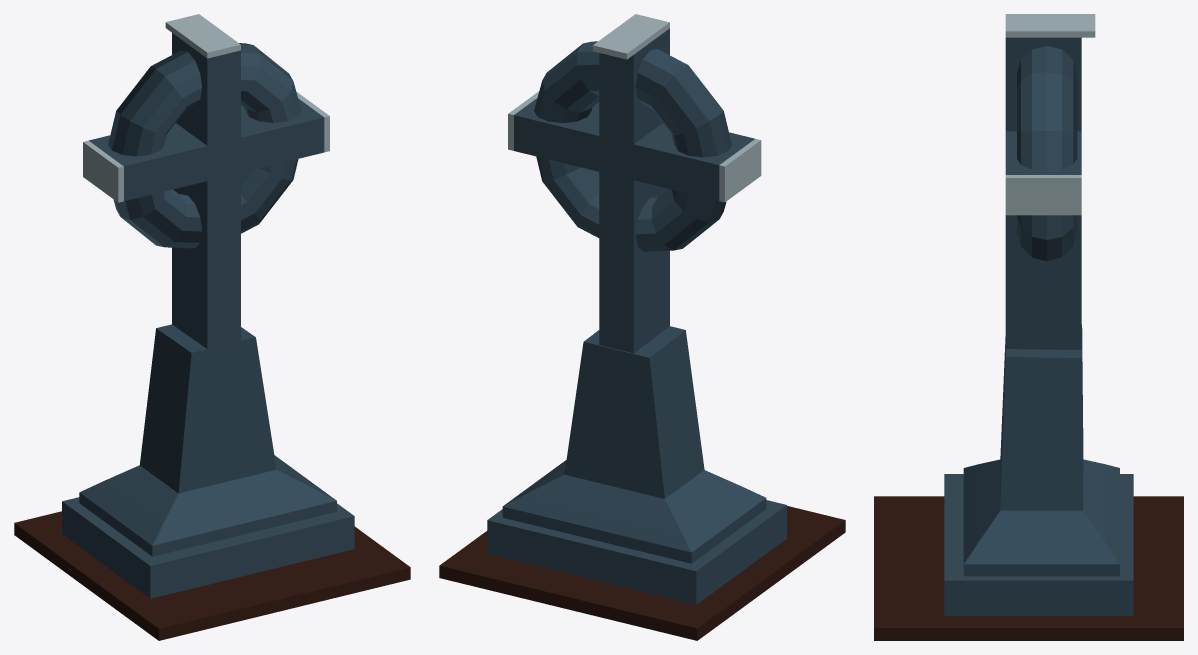
Rendered from gravestone.obj.
3 renders of one model, left to right at view 1: azimuth 30°, elevation 25°; view 2: azimuth 150°, elevation 25°; view 3: azimuth 270°, elevation 25°, orthographic. The views are drawn at different scales.
Visible parts, largest first — view 1: gravestone; view 2: gravestone; view 3: gravestone.
Boxes of the visible parts, box(x1,y1,x2,y2) form: gravestone: box(14, 14, 410, 640); gravestone: box(439, 14, 845, 640); gravestone: box(874, 14, 1183, 640).
Size of the model in its own units: 1.03 by 2.01 by 1.02.
